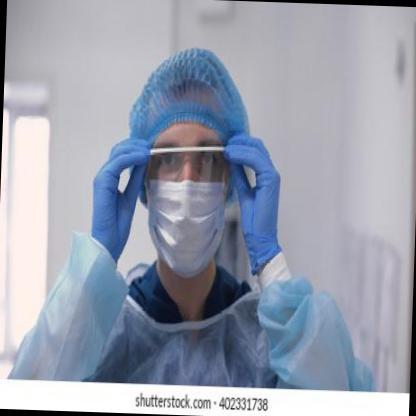Gloves: (219, 132, 286, 274), (89, 134, 152, 264)
